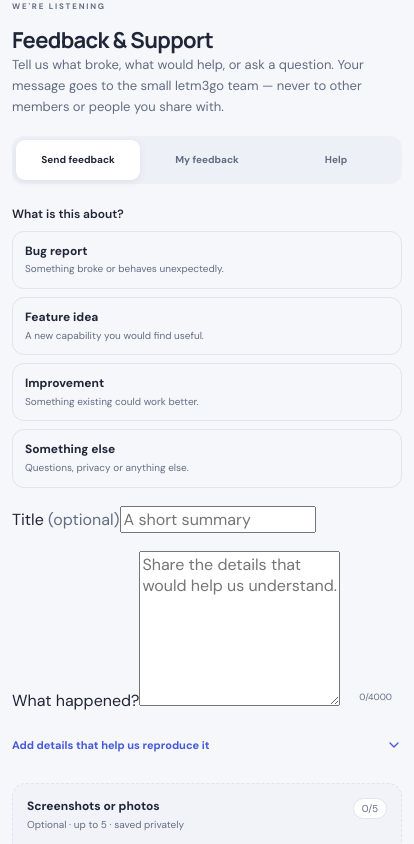
sends the drafted ticket and shows a reference on the receipt
The width and height of the screenshot is (414, 844).
Click the radio button labelled "Bug report Something broke or behaves unexpectedly." at (207, 260), box [12,231,402,289]
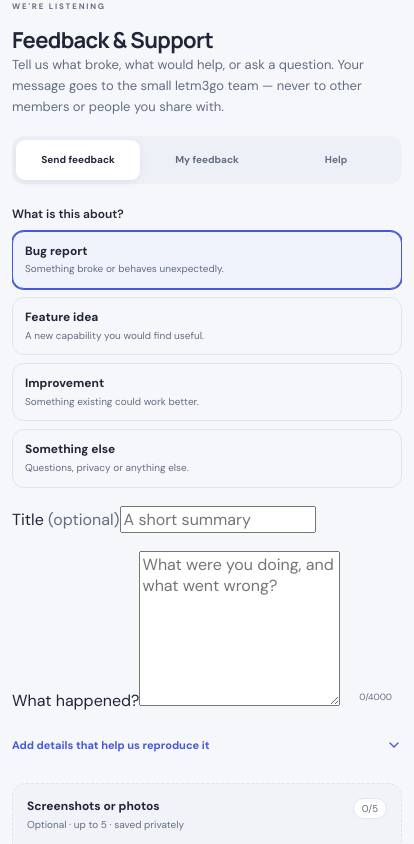
Type "Opening a journey froze the map." into the text box labelled "What happened? 0/4000" at (240, 628), box [139,551,340,706]
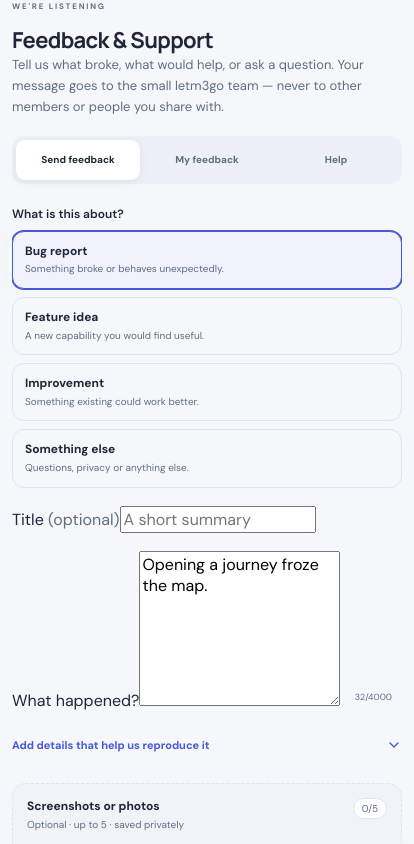
Type "Map freezes" into the field labelled "Title (optional)" at (218, 519), box [120,506,316,533]
(page scrolled)
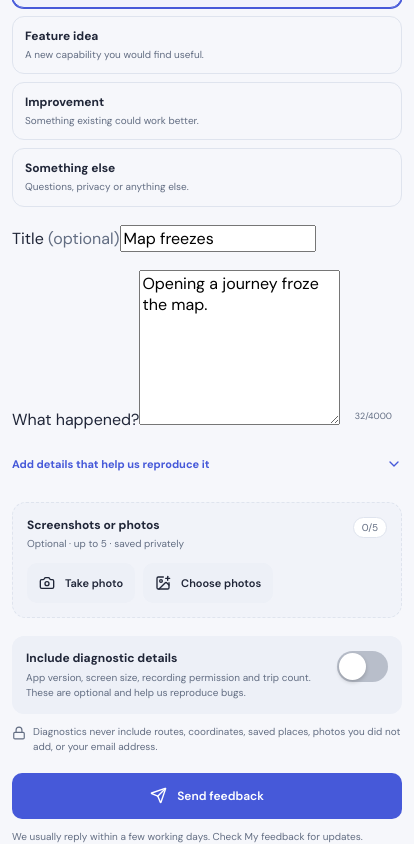
Click the button "Send feedback" at (207, 796), box [12,773,402,819]
(page scrolled)
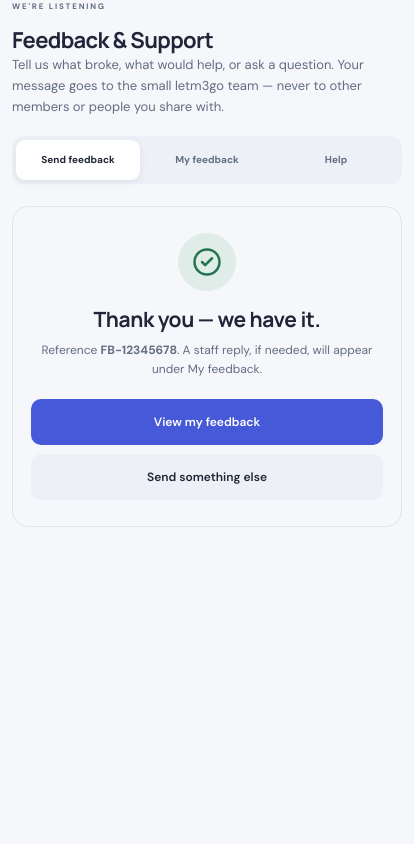
Result: the heading "Thank you — we have it." is shown at [93,305,320,333]
Result: the text "FB-12345678" is shown at [101,342,177,358]
Result: the text "A staff reply" is shown at [152,342,372,377]
